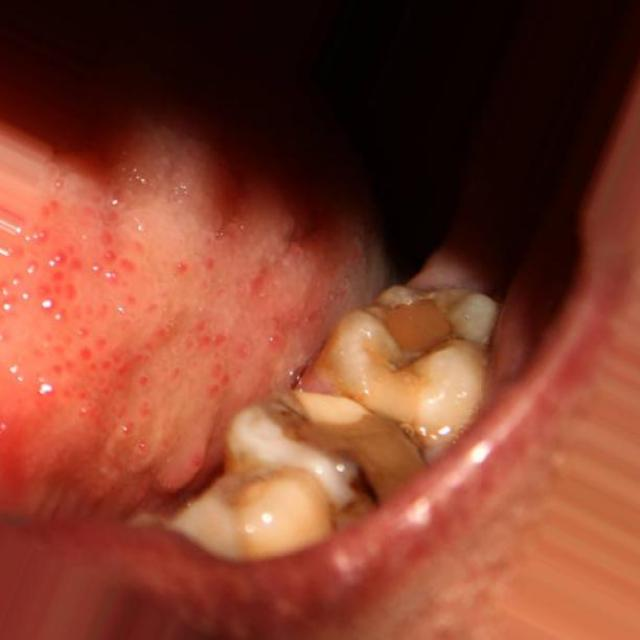caries: (242, 378, 432, 518), (332, 272, 493, 404)
